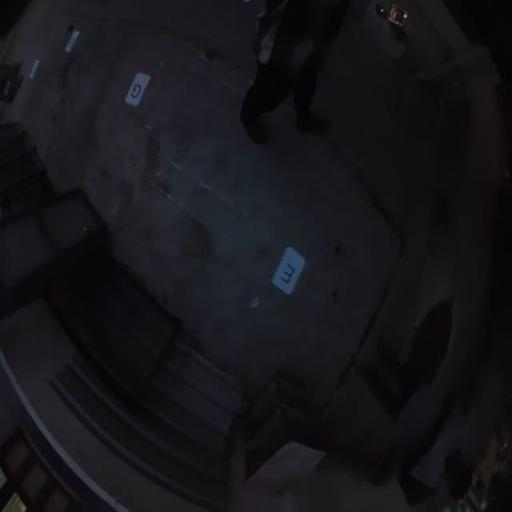E: (272, 248, 306, 294)
G: (125, 74, 150, 106)
